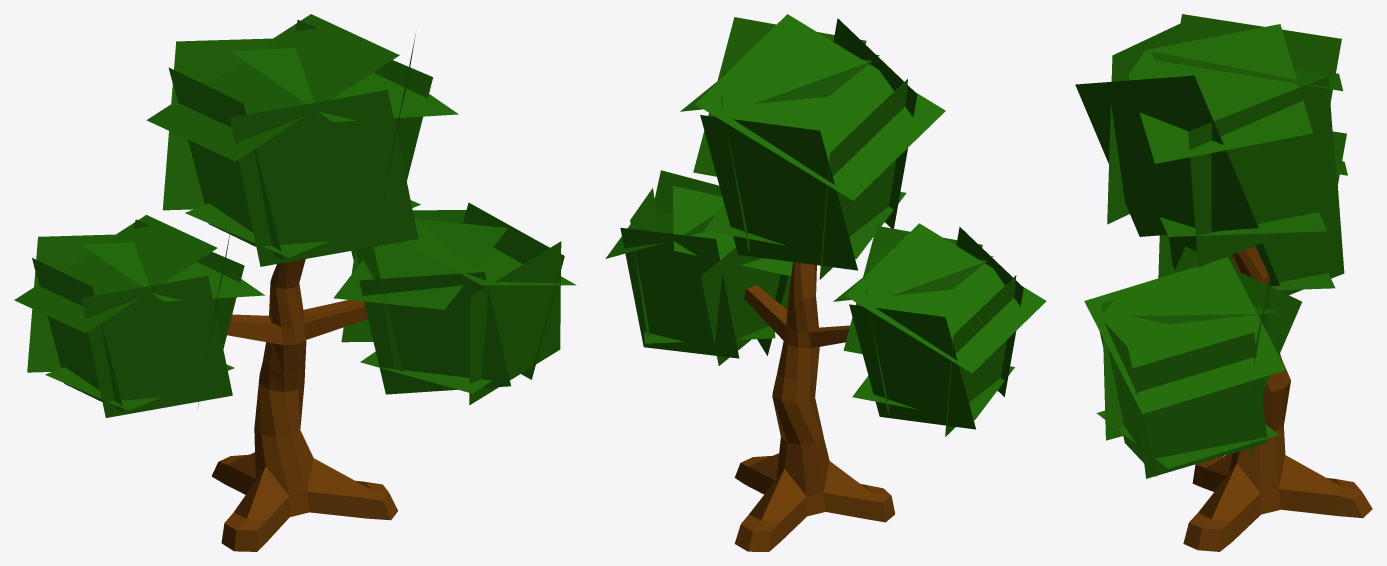
File: Tree01.fbx
3 renders of one model, left to right at view 1: azimuth 30°, elevation 25°; view 2: azimuth 150°, elevation 25°; view 3: azimuth 270°, elevation 25°, orthographic. The views are drawn at different scales.
Visible parts, largest first — view 1: Cylinder; view 2: Cylinder; view 3: Cylinder.
Part boxes in pixels (left/top/right/bottom): Cylinder: left=14, top=14, right=576, bottom=551; Cylinder: left=605, top=14, right=1046, bottom=551; Cylinder: left=1075, top=14, right=1372, bottom=551.
Size of the model in its own units: 1801 by 1781 by 986.
